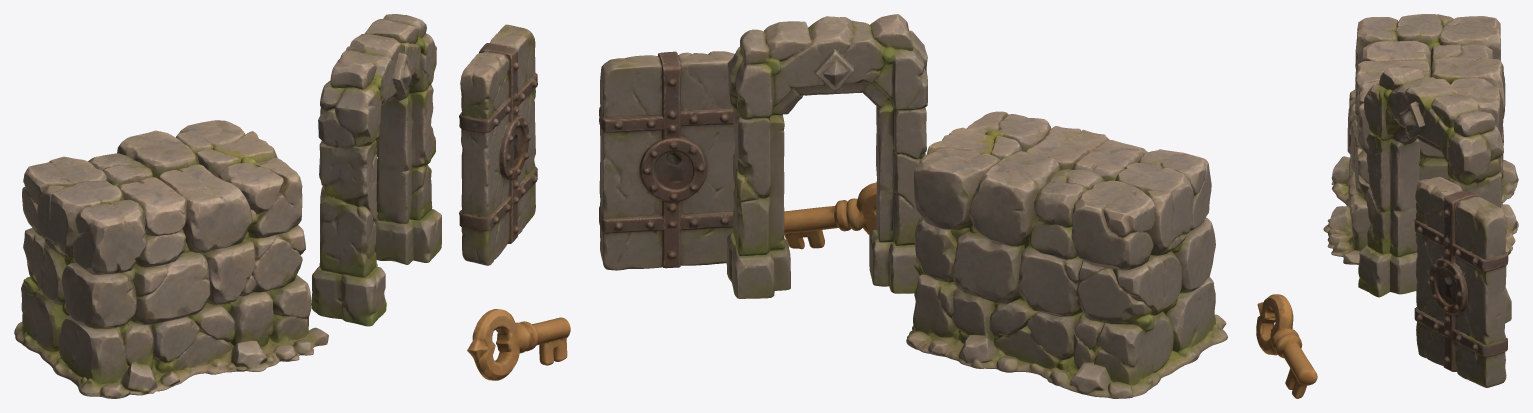
The model's file is arco_piedra.glb.
3 renders of one model, left to right at view 1: azimuth 30°, elevation 25°; view 2: azimuth 150°, elevation 25°; view 3: azimuth 270°, elevation 25°, orthographic. The views are drawn at different scales.
Visible parts, largest first — view 1: tripo_node_a824e3b3-aa02-4017-830c-d5069433753f; view 2: tripo_node_a824e3b3-aa02-4017-830c-d5069433753f; view 3: tripo_node_a824e3b3-aa02-4017-830c-d5069433753f.
Part boxes in pixels (left/top/right/bottom): tripo_node_a824e3b3-aa02-4017-830c-d5069433753f: left=14, top=14, right=570, bottom=398; tripo_node_a824e3b3-aa02-4017-830c-d5069433753f: left=599, top=14, right=1227, bottom=398; tripo_node_a824e3b3-aa02-4017-830c-d5069433753f: left=1256, top=14, right=1518, bottom=398.
Size of the model in its own units: 1 by 0.5357 by 0.4823.
1 material, 1 textured.
